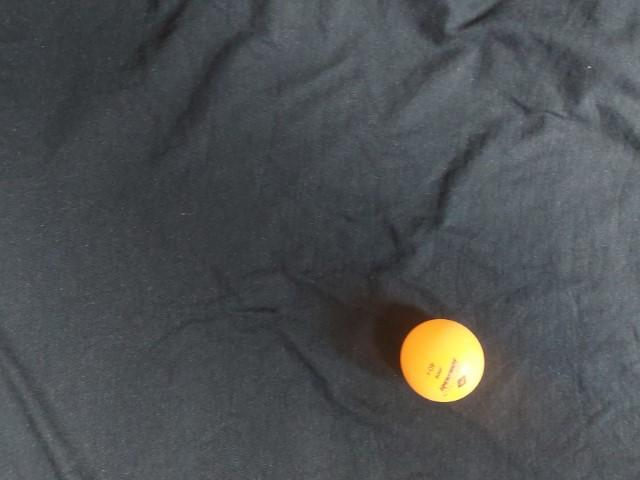oball: (149, 70, 246, 168)
